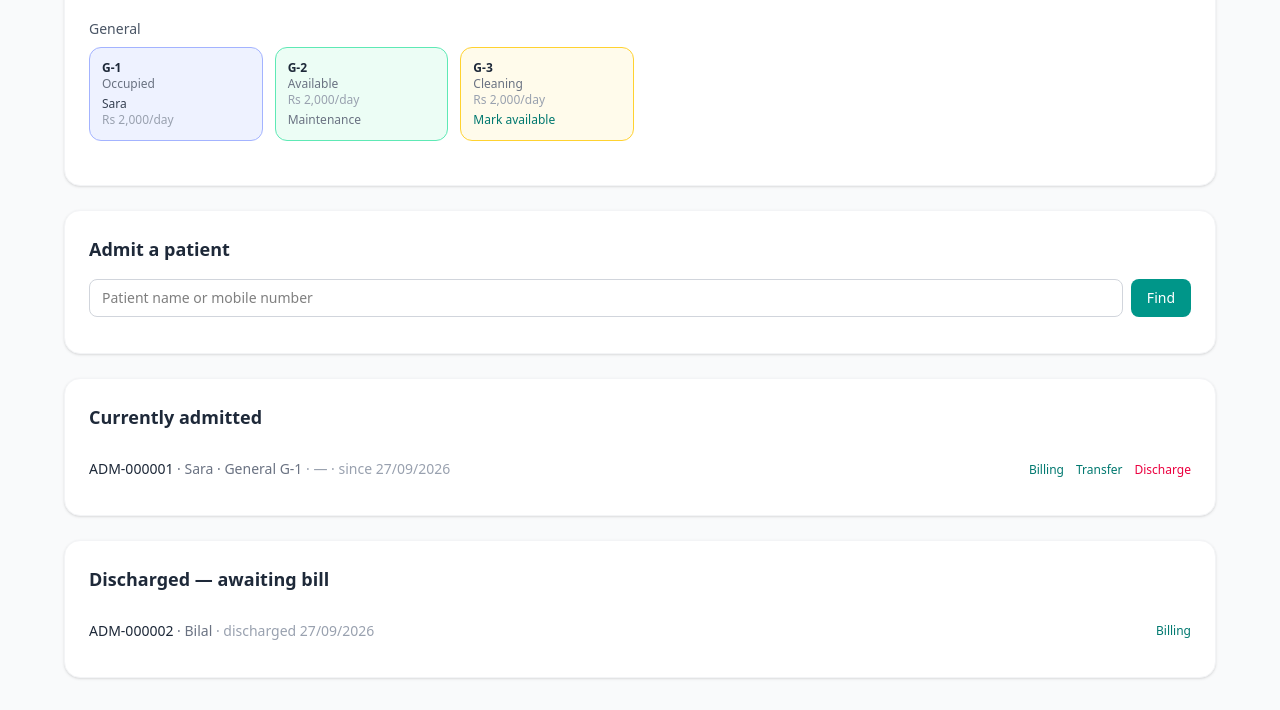
Scenario: IpdPage › finalizes the bill for a discharged patient and opens the receipt
The width and height of the screenshot is (1280, 710).
(page scrolled)
Expected: the text "ADM-000002" is shown, [89,621,173,640]
Click the button "Billing" in the row of "· discharged": (1174, 631) [1156,623,1191,639]
(page scrolled)
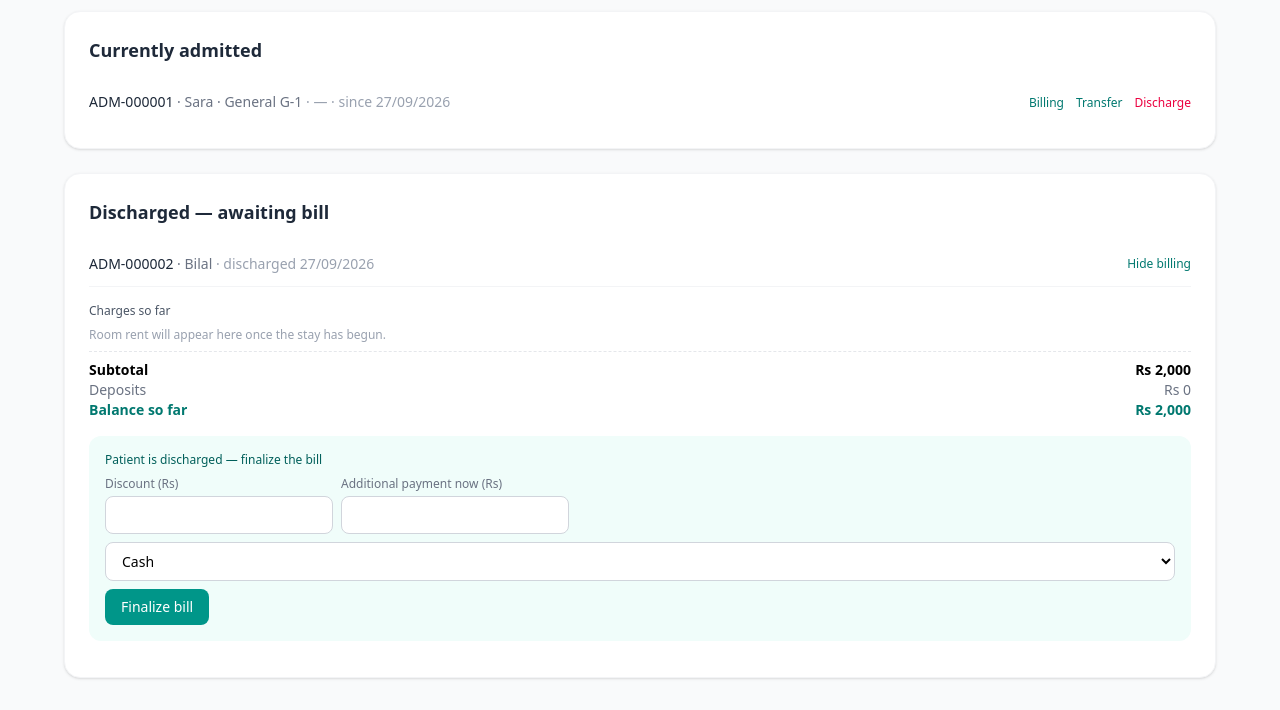
Expected: the button "Finalize bill" is shown
Click the button "Finalize bill": (157, 607) [105,589,209,625]
(page scrolled)
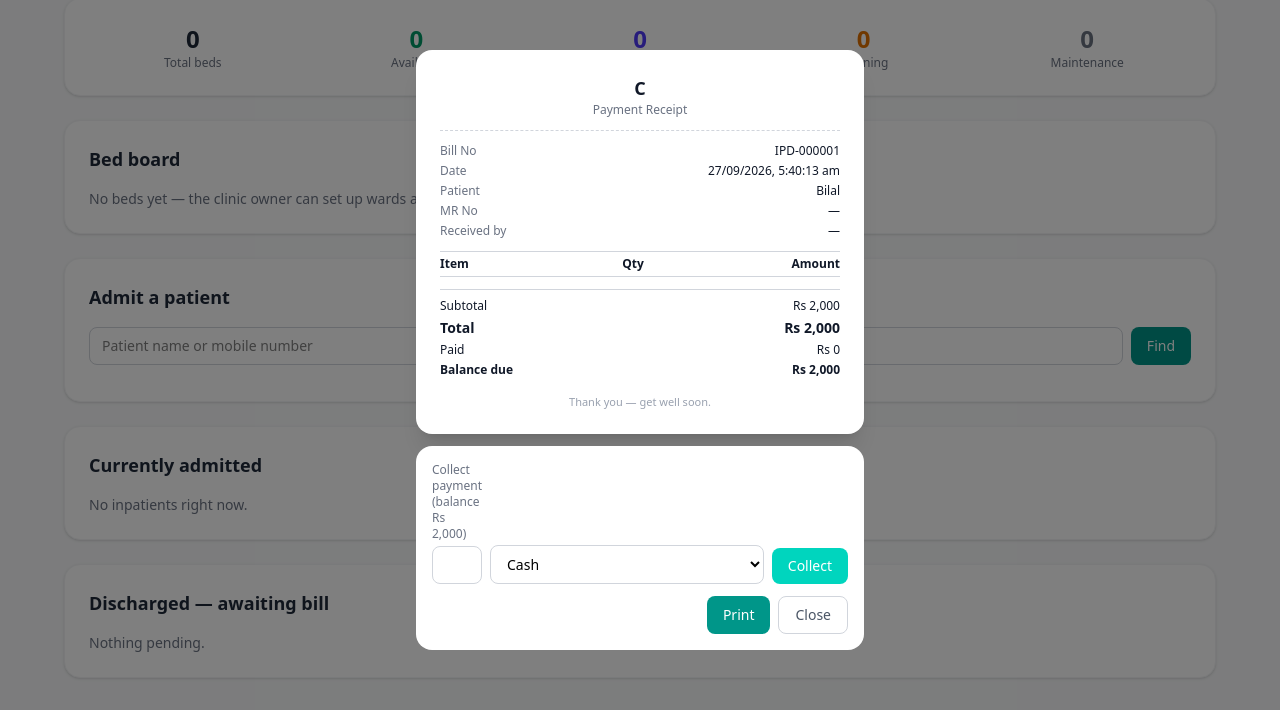
Expected: the text "IPD-000001" is shown, [775,142,840,159]
